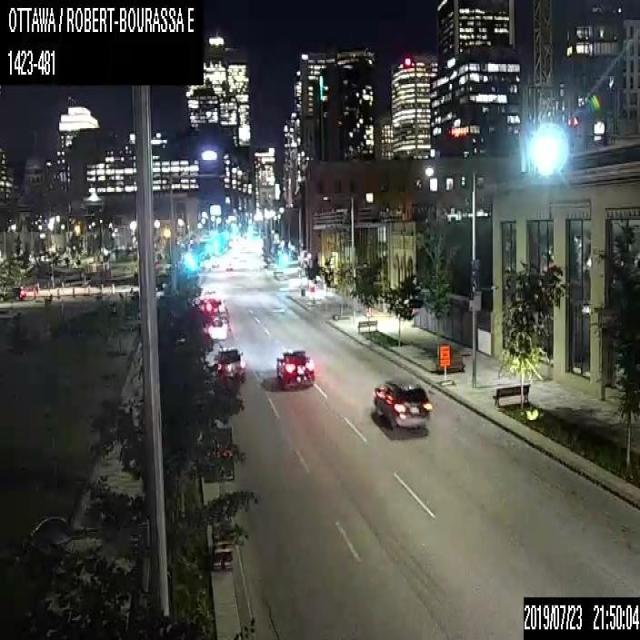construction: (200, 426, 234, 570), (439, 343, 451, 384)
vehicle: (371, 378, 433, 430), (276, 347, 314, 389), (213, 345, 246, 384), (205, 317, 228, 339), (0, 284, 25, 300), (202, 298, 221, 316)
